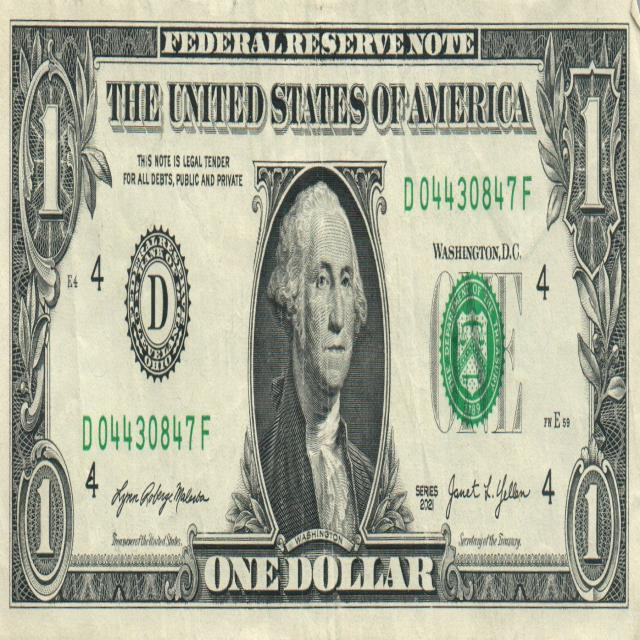SerialNumber: (83, 415, 210, 451), (405, 176, 531, 211)
